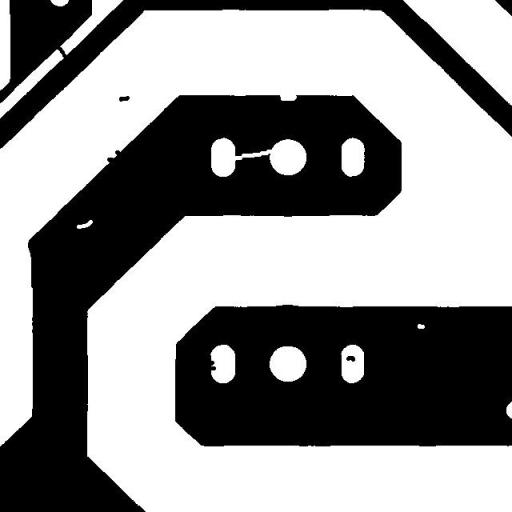copper: (111, 88, 137, 109), (338, 348, 362, 369)
mousebite: (272, 85, 304, 108)
open: (224, 142, 282, 168)
pin-hole: (69, 212, 100, 236), (410, 316, 432, 336)
short: (46, 35, 76, 70)
spur: (99, 142, 128, 170), (200, 352, 223, 378)
